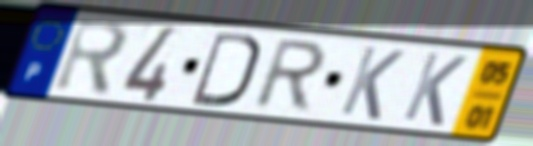4: (121, 23, 178, 104)
D: (188, 28, 264, 110)
K: (398, 49, 471, 129), (336, 43, 408, 123)
R: (50, 15, 132, 100), (248, 37, 332, 115)
